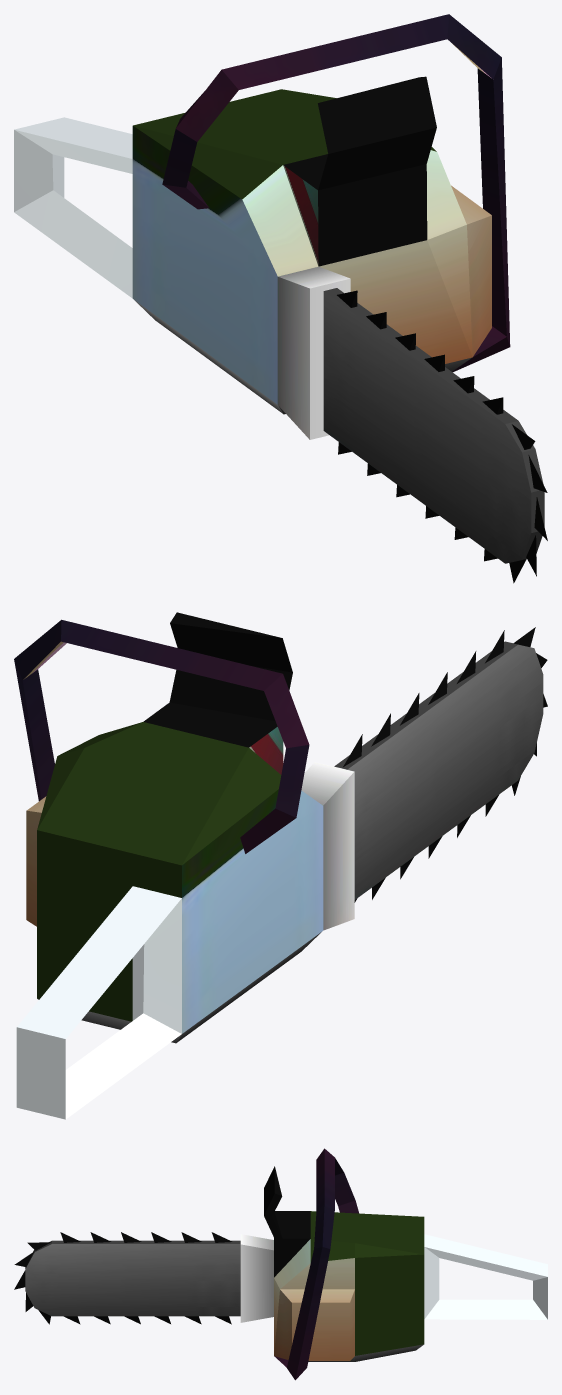
The model's file is 53da76a7-6cea-4901-b0e9-586511cbca70.glb.
The picture shows the model from 3 angles, top to bottom: view 1: azimuth 30°, elevation 25°; view 2: azimuth 150°, elevation 25°; view 3: azimuth 270°, elevation 25°; orthographic projection. The views are drawn at different scales.
Parts seen in each view (by area): view 1: HalloweenChainsaw; view 2: HalloweenChainsaw; view 3: HalloweenChainsaw.
Boxes of the visible parts, x1,y1,x2,y2 form: HalloweenChainsaw: (14,14,547,583); HalloweenChainsaw: (14,612,547,1119); HalloweenChainsaw: (14,1148,547,1380).
Size of what is drawn, in the model's own units: 0.4038 by 0.4005 by 1.14.
1 material, 1 textured.
